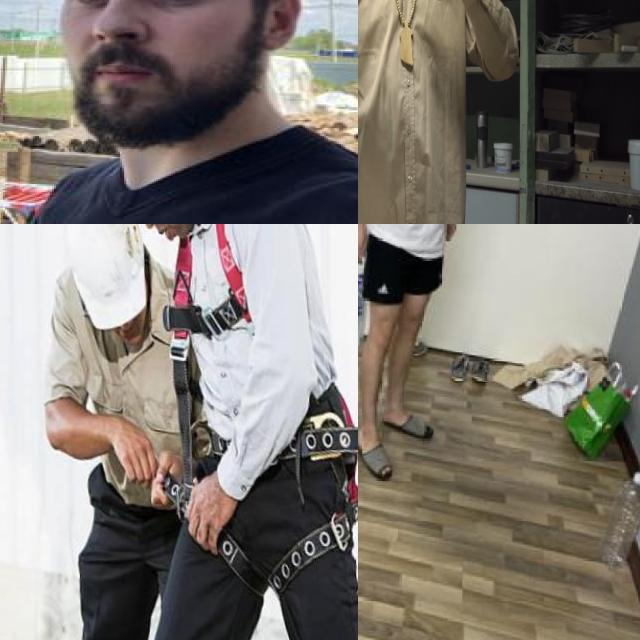Harness: (219, 386, 358, 598), (164, 224, 252, 498)
No_Ear-Protection: (248, 0, 316, 61)
No_Glasses: (45, 0, 234, 24)
Sandals: (374, 406, 440, 456), (358, 415, 399, 493)
face_nomask: (58, 0, 245, 149)
person: (0, 0, 358, 224)
